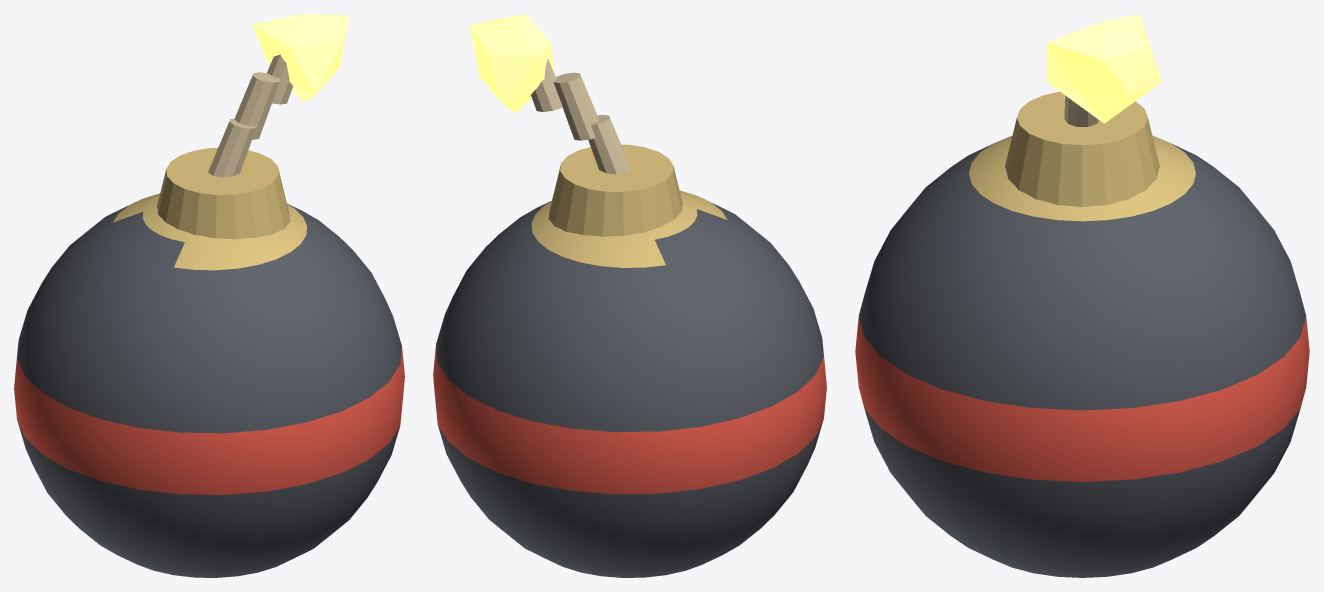
The model's file is Bomb_Whole.fbx.
3 renders of one model, left to right at view 1: azimuth 30°, elevation 25°; view 2: azimuth 150°, elevation 25°; view 3: azimuth 270°, elevation 25°, orthographic. The views are drawn at different scales.
Parts seen in each view (by area): view 1: Bomb_Whole; view 2: Bomb_Whole; view 3: Bomb_Whole.
Boxes of the visible parts, left/top/right/bottom form: Bomb_Whole: left=14, top=14, right=404, bottom=577; Bomb_Whole: left=433, top=14, right=826, bottom=577; Bomb_Whole: left=855, top=14, right=1309, bottom=577.
Size of the model in its own units: 1.04 by 1.5 by 1.04.
